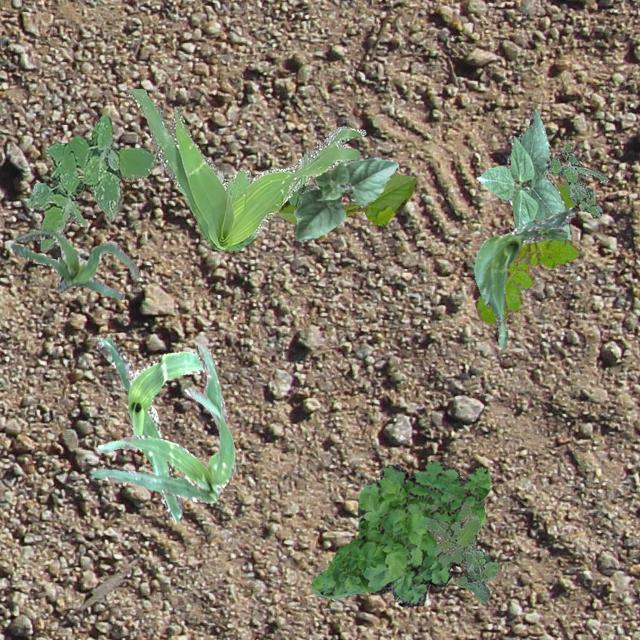crop: (90, 342, 234, 502), (96, 336, 204, 522), (472, 205, 576, 348), (476, 109, 570, 238), (293, 152, 397, 240), (10, 228, 138, 298), (276, 173, 414, 224)
weed: (126, 88, 364, 250), (308, 458, 491, 606), (26, 114, 154, 252), (474, 180, 578, 326), (423, 501, 498, 602), (548, 142, 608, 218), (288, 178, 316, 206)
